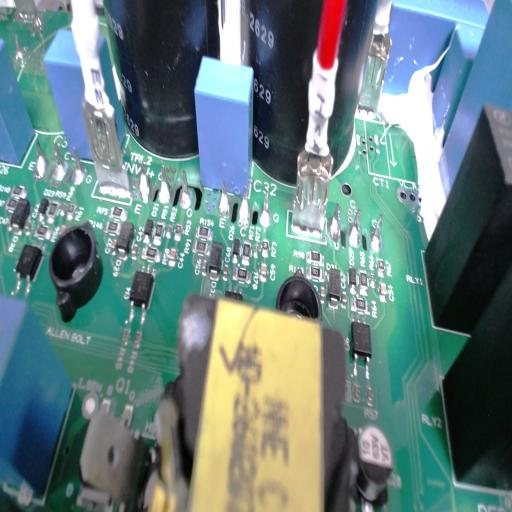pin_group: (213, 177, 277, 238), (325, 198, 387, 259), (29, 127, 88, 191), (134, 156, 196, 214)
solder_ball: (30, 130, 48, 178), (50, 139, 68, 185), (234, 184, 252, 228), (369, 213, 386, 256), (156, 161, 172, 206), (137, 162, 154, 204), (347, 209, 364, 251), (258, 192, 275, 233), (178, 167, 194, 209), (216, 179, 232, 218), (329, 201, 343, 243), (71, 148, 85, 186)
